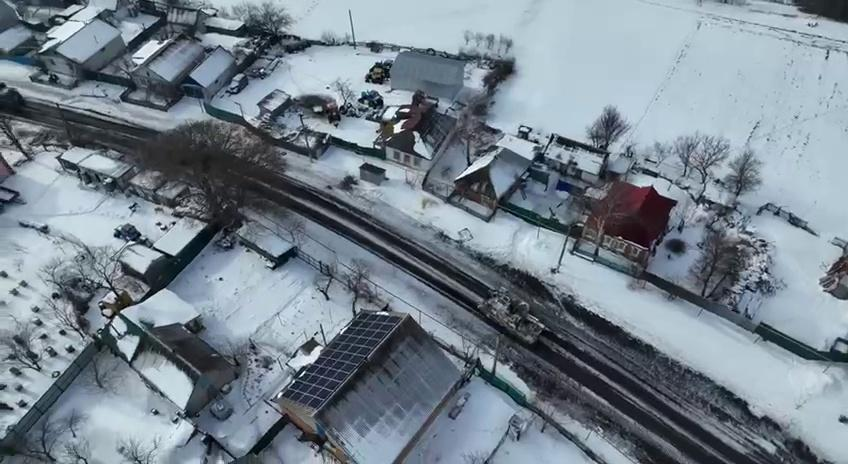car: (113, 220, 148, 244), (358, 87, 388, 110), (368, 56, 394, 78), (362, 68, 386, 84)
sau: (479, 288, 570, 346)
